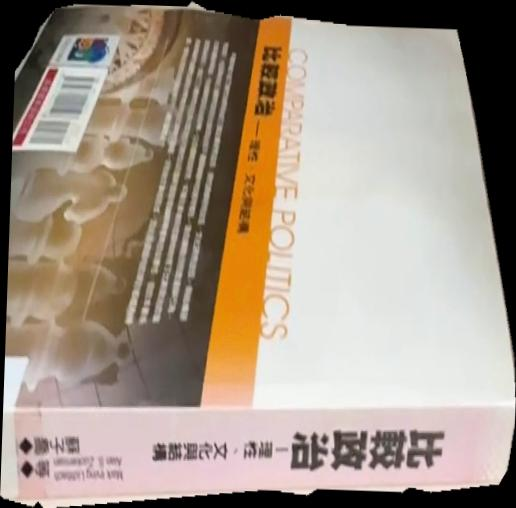flat: (1, 1, 516, 508)
